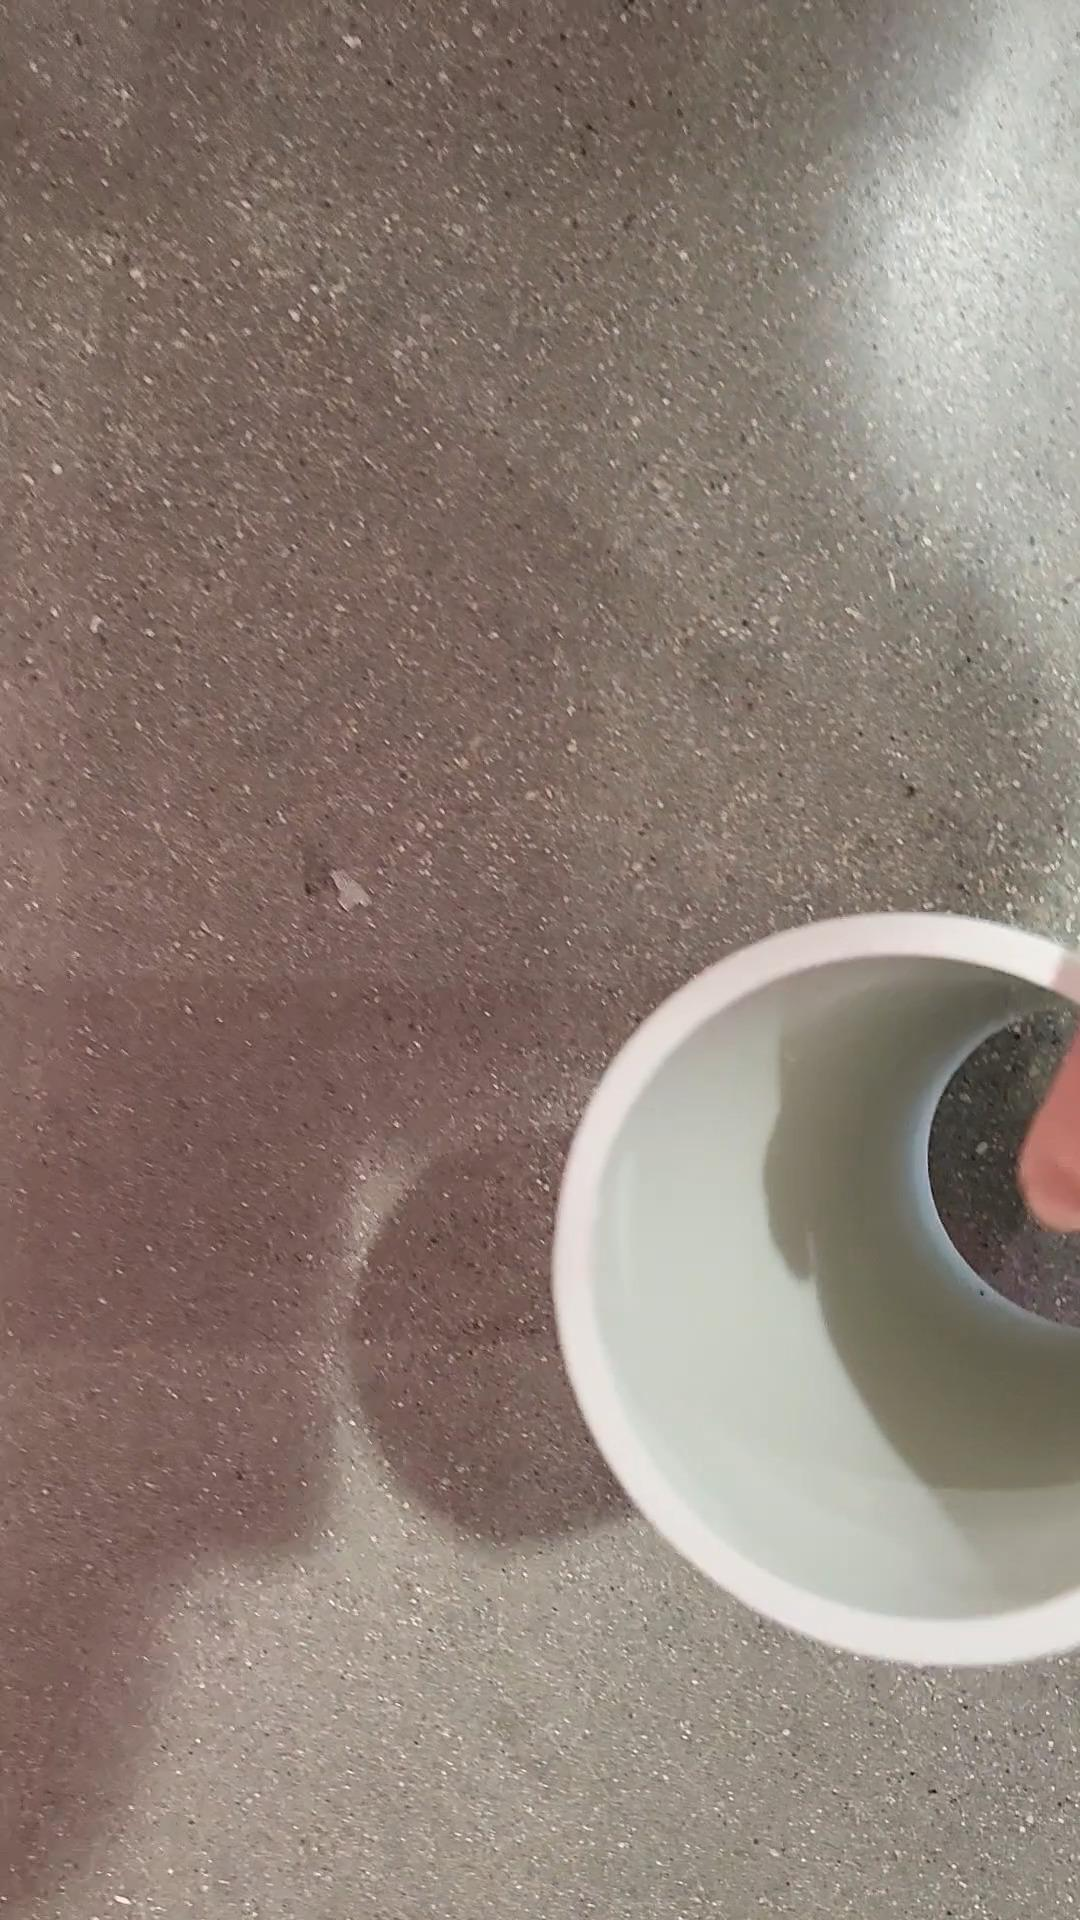coral: (550, 907, 1080, 1675)
